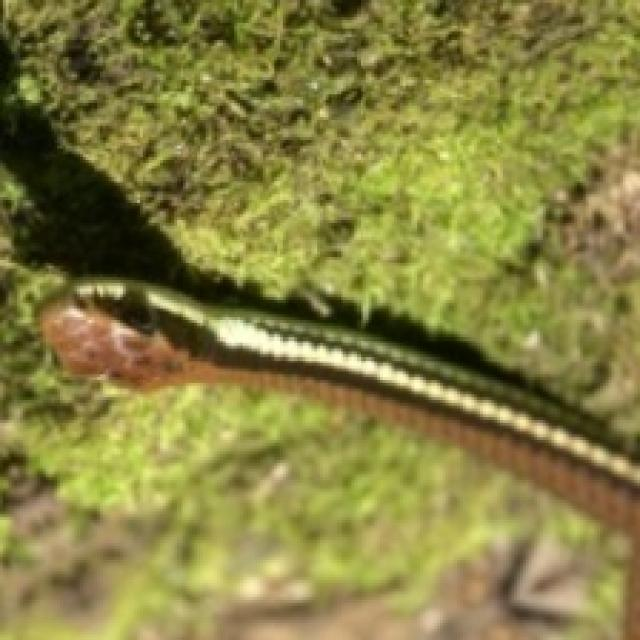philippine bronzeback treesnake: (40, 277, 637, 637)
